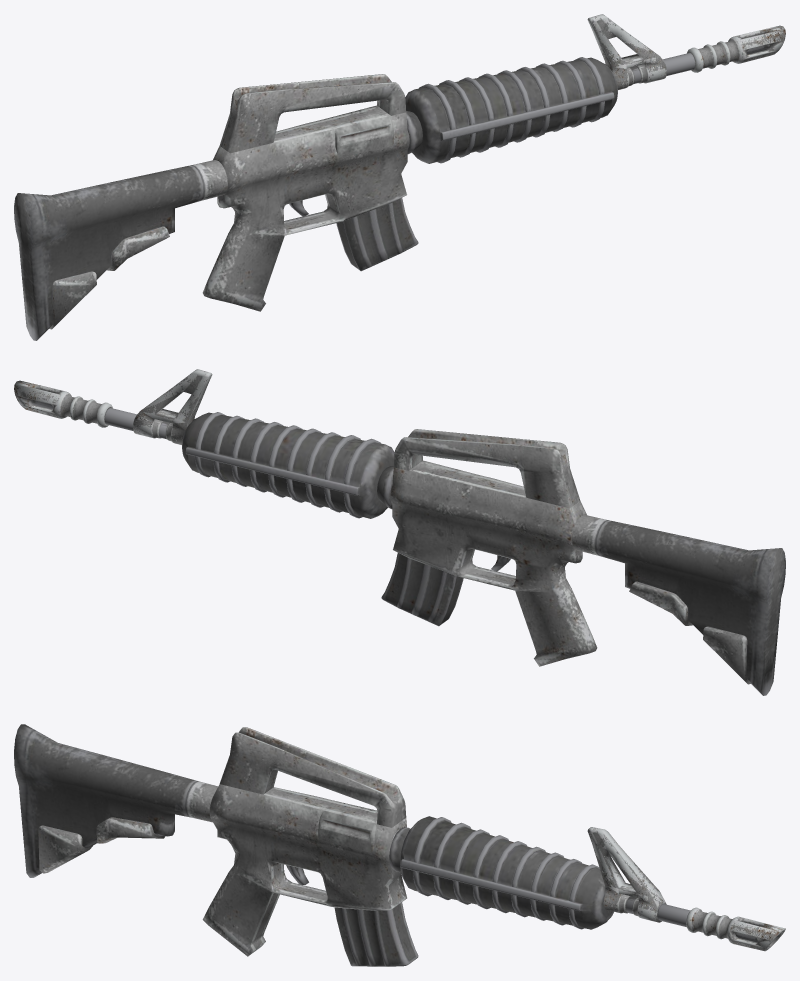
The model's file is weapon-rifle.glb.
The picture shows the model from 3 angles, top to bottom: view 1: azimuth 30°, elevation 25°; view 2: azimuth 150°, elevation 25°; view 3: azimuth 330°, elevation 25°; orthographic projection.
Parts seen in each view (by area): view 1: Assault_Rifle_low_part; view 2: Assault_Rifle_low_part; view 3: Assault_Rifle_low_part.
Part boxes in pixels (x1=…): Assault_Rifle_low_part: x1=14, y1=14, x2=785, y2=340; Assault_Rifle_low_part: x1=14, y1=369, x2=785, y2=695; Assault_Rifle_low_part: x1=14, y1=724, x2=785, y2=966.
Bounding box in the file's own units: 4.92 × 1.35 × 0.4759.
Materials: 1 (1 with a texture image).
